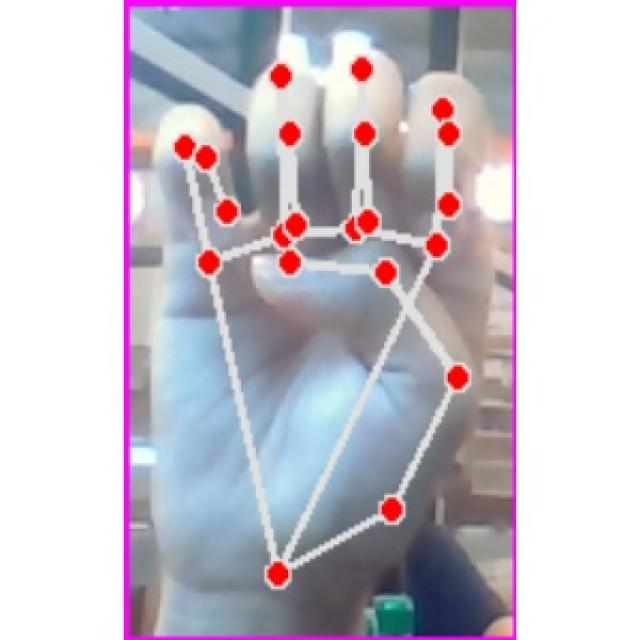E: (135, 48, 506, 610)
